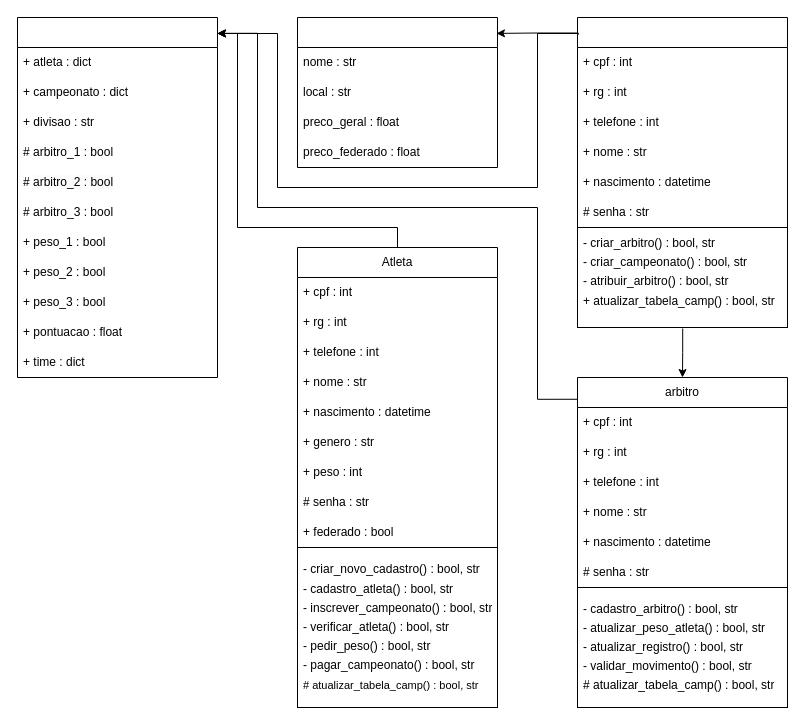
Some shapes in this 805 by 725 pixel diagram are drawn without their labels. The box of each missing label's shape, as (x1, y1, x2, y2) in pixels:
admin: (576, 16, 788, 328)
campeonato: (296, 16, 498, 168)
registro_evento: (16, 16, 218, 378)
